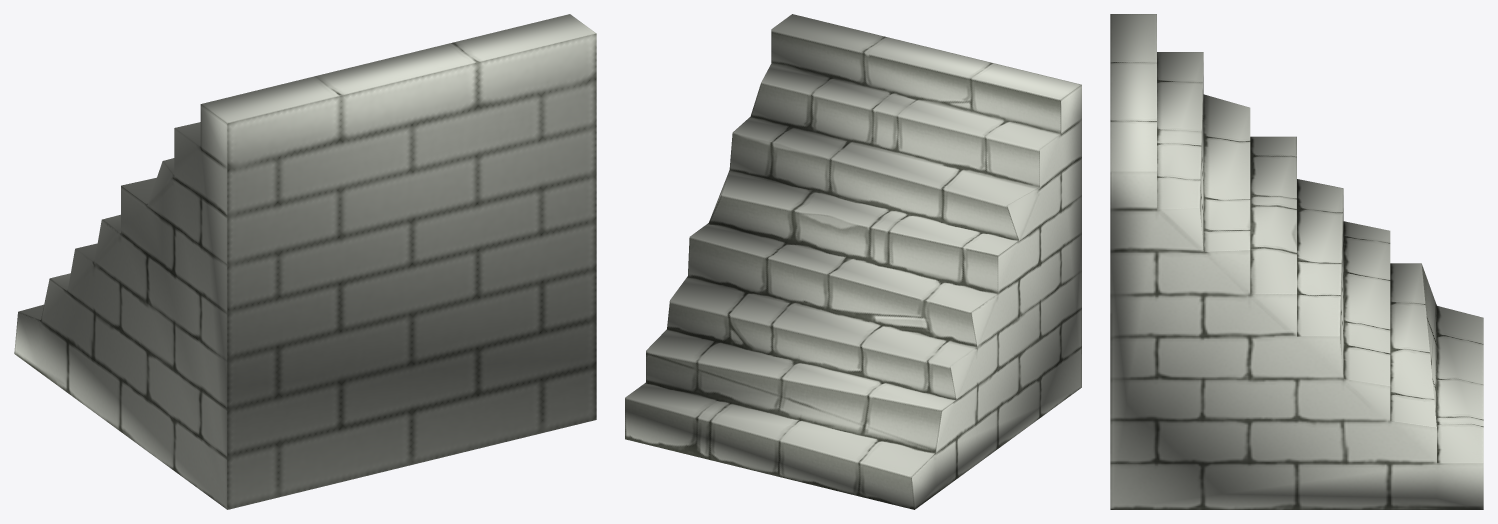
Rendered from FBX_Stone_Stairs_00.fbx.
The picture shows the model from 3 angles, left to right: view 1: azimuth 30°, elevation 25°; view 2: azimuth 150°, elevation 25°; view 3: azimuth 270°, elevation 25°; orthographic projection. The views are drawn at different scales.
Visible parts, largest first — view 1: Mesh_Stone_Stairs_00; view 2: Mesh_Stone_Stairs_00; view 3: Mesh_Stone_Stairs_00.
Boxes of the visible parts, x1,y1,x2,y2 form: Mesh_Stone_Stairs_00: [14, 14, 596, 509]; Mesh_Stone_Stairs_00: [625, 14, 1081, 509]; Mesh_Stone_Stairs_00: [1110, 14, 1483, 509].
Bounding box in the file's own units: 97.99 × 97.99 × 97.99.
